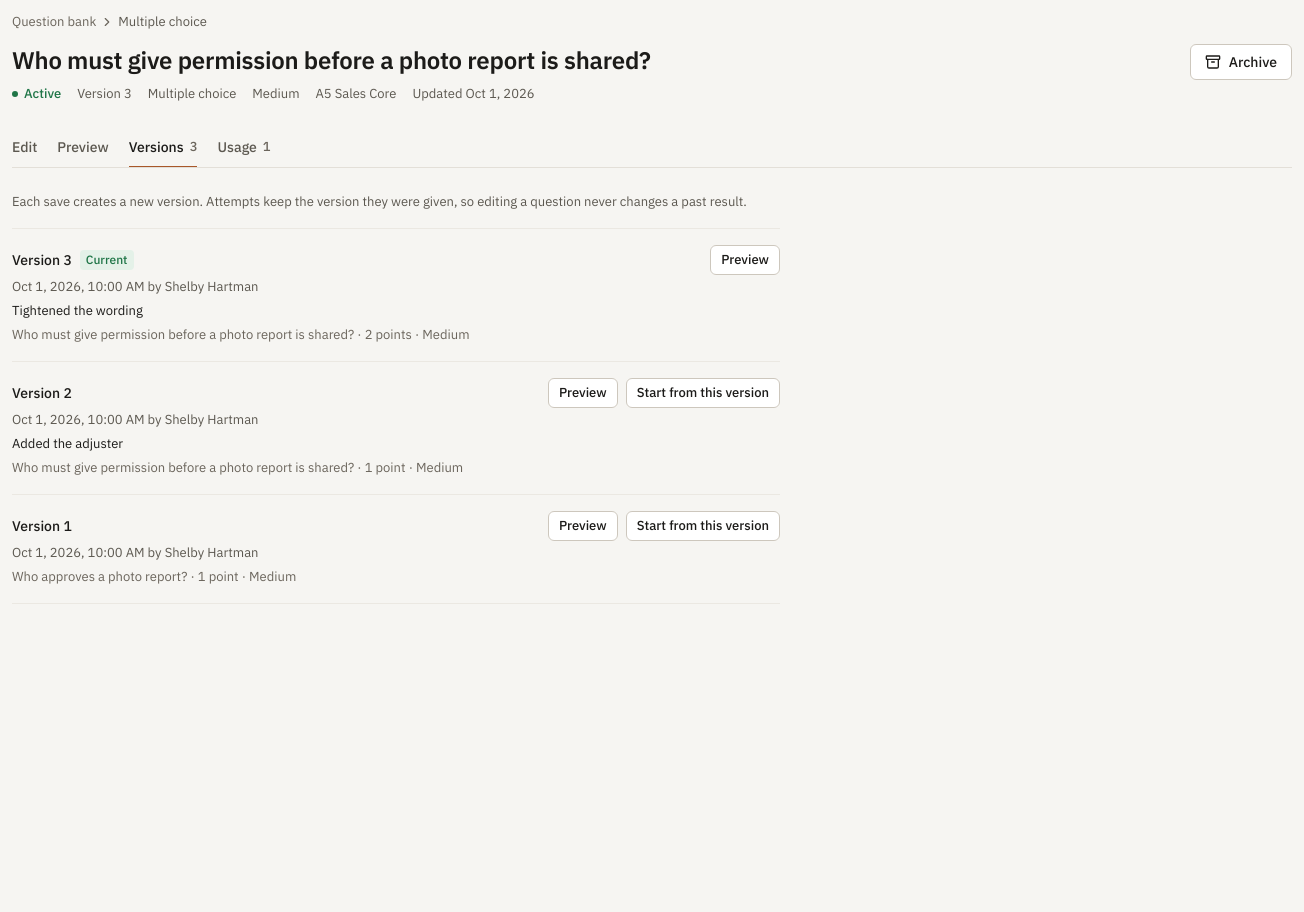
Test: QuestionEditorPage (existing question) › lists every version and starts an edit from an older one
This screenshot has width=1304, height=912.
Expected: the 3rd list item shows "Version 3", [12, 229, 780, 362]
Expected: the 3rd list item shows "Current", [86, 252, 128, 267]
Click the 2nd button "Start from this version" at (703, 526), box [626, 511, 780, 541]
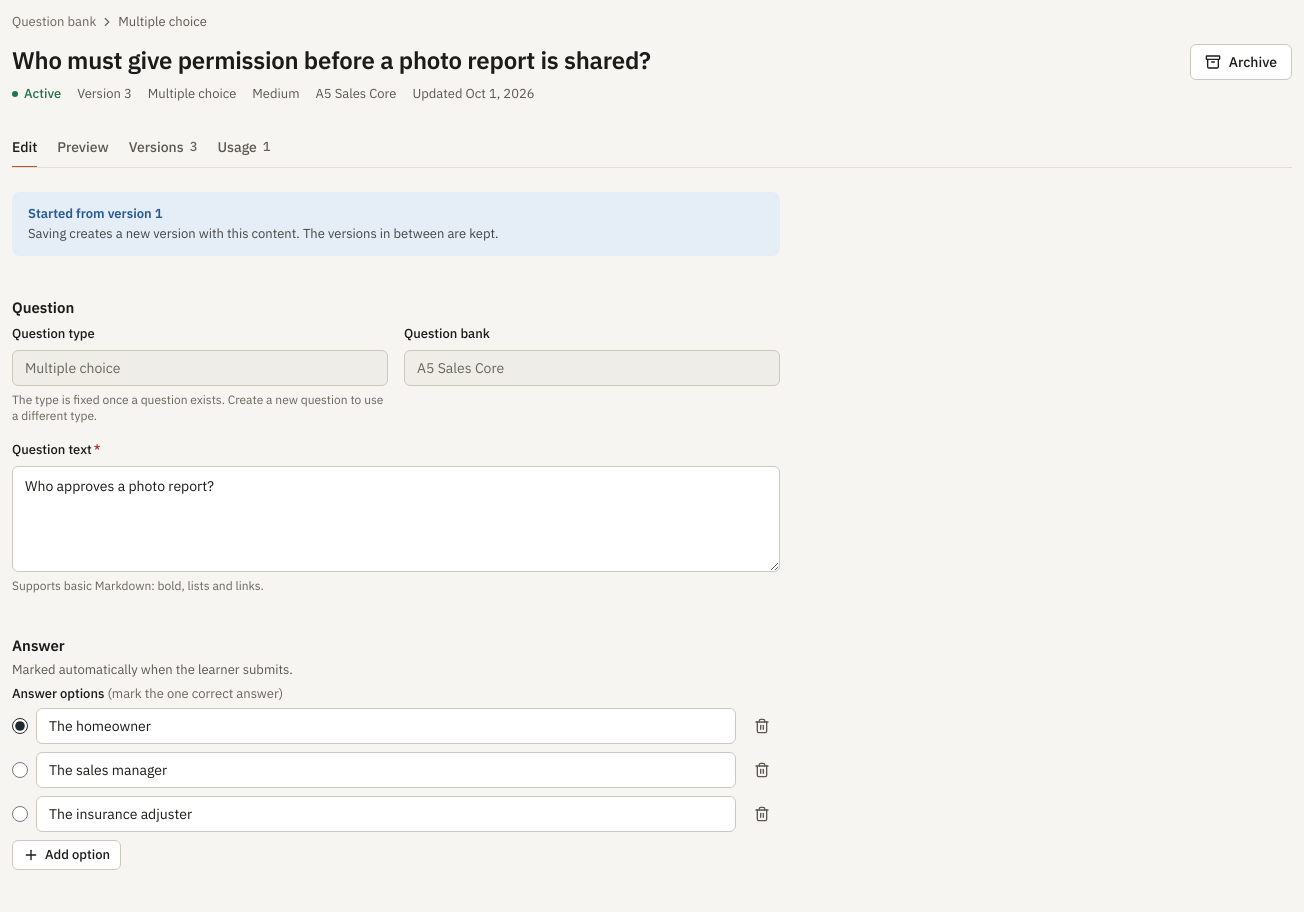
Expected: the text "Started from version 1" is shown, [28, 205, 163, 222]
Expected: the text box labelled "Question text*" holds "Who approves a photo report?", [12, 466, 780, 572]
